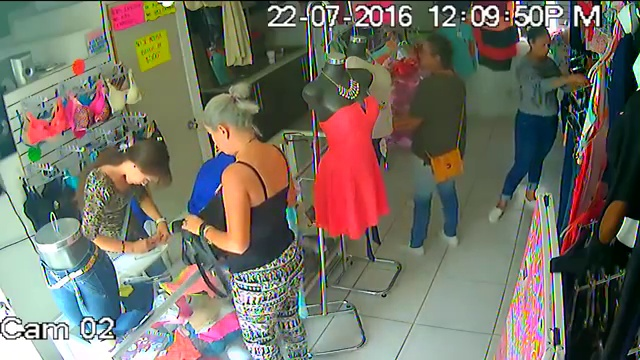face: (117, 161, 156, 193), (418, 43, 441, 70), (527, 35, 551, 57)
